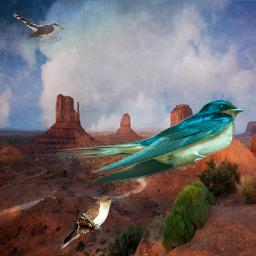Cuckoo: (61, 195, 118, 250), (12, 11, 64, 44)
Swallow: (56, 99, 245, 184)
